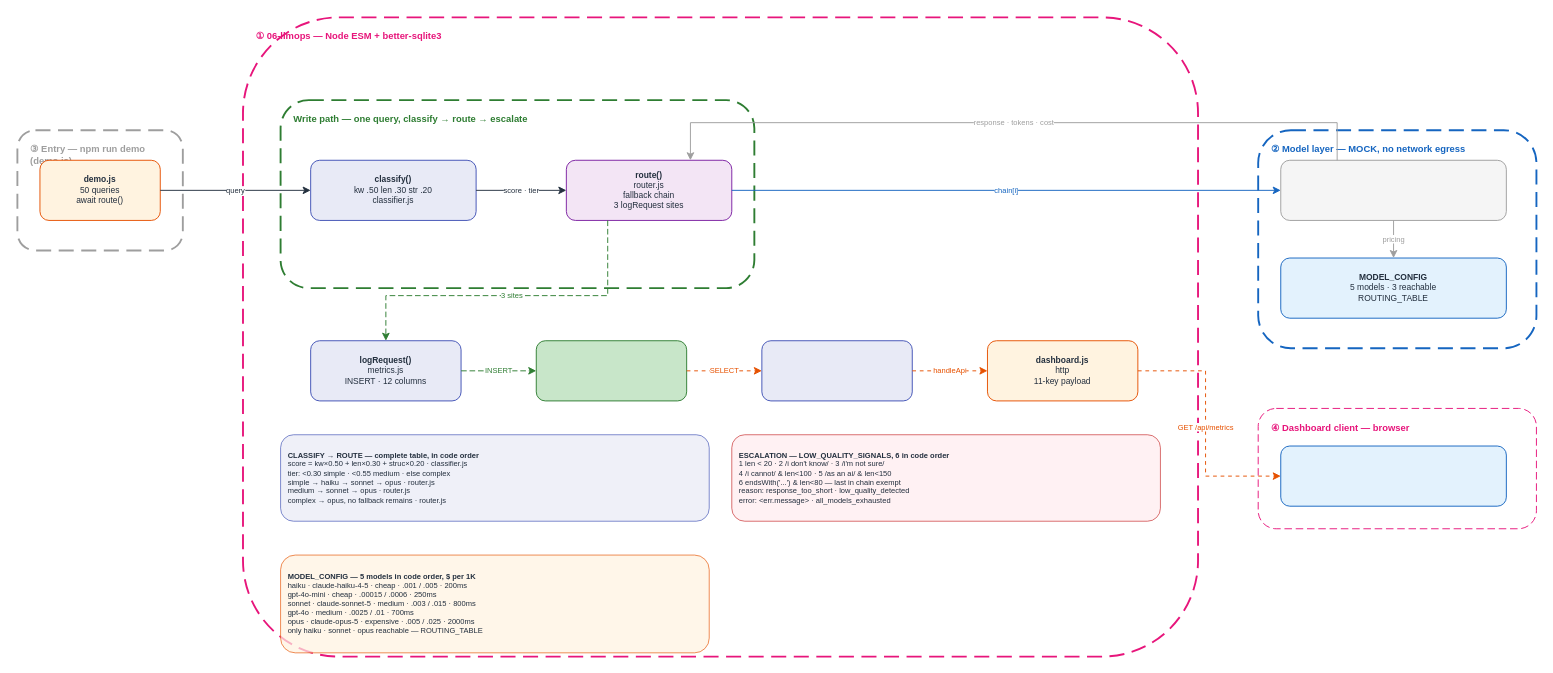
The diagram is 1553 pixels wide and 673 high, and some of its shapes have lost their labels. The shapes that lost their labels are listed below. From the top down, each one's centre as x and y in pixels, then its label:
the point at 1393,189: mockModelCall() MOCK — no network call 0.3 fail rate, len>300
the point at 611,370: metrics.db SQLite WAL requests table
the point at 836,370: 9 read queries metrics.js
the point at 1393,475: public/dashboard.html fetch /api/metrics auto-refresh 10s
